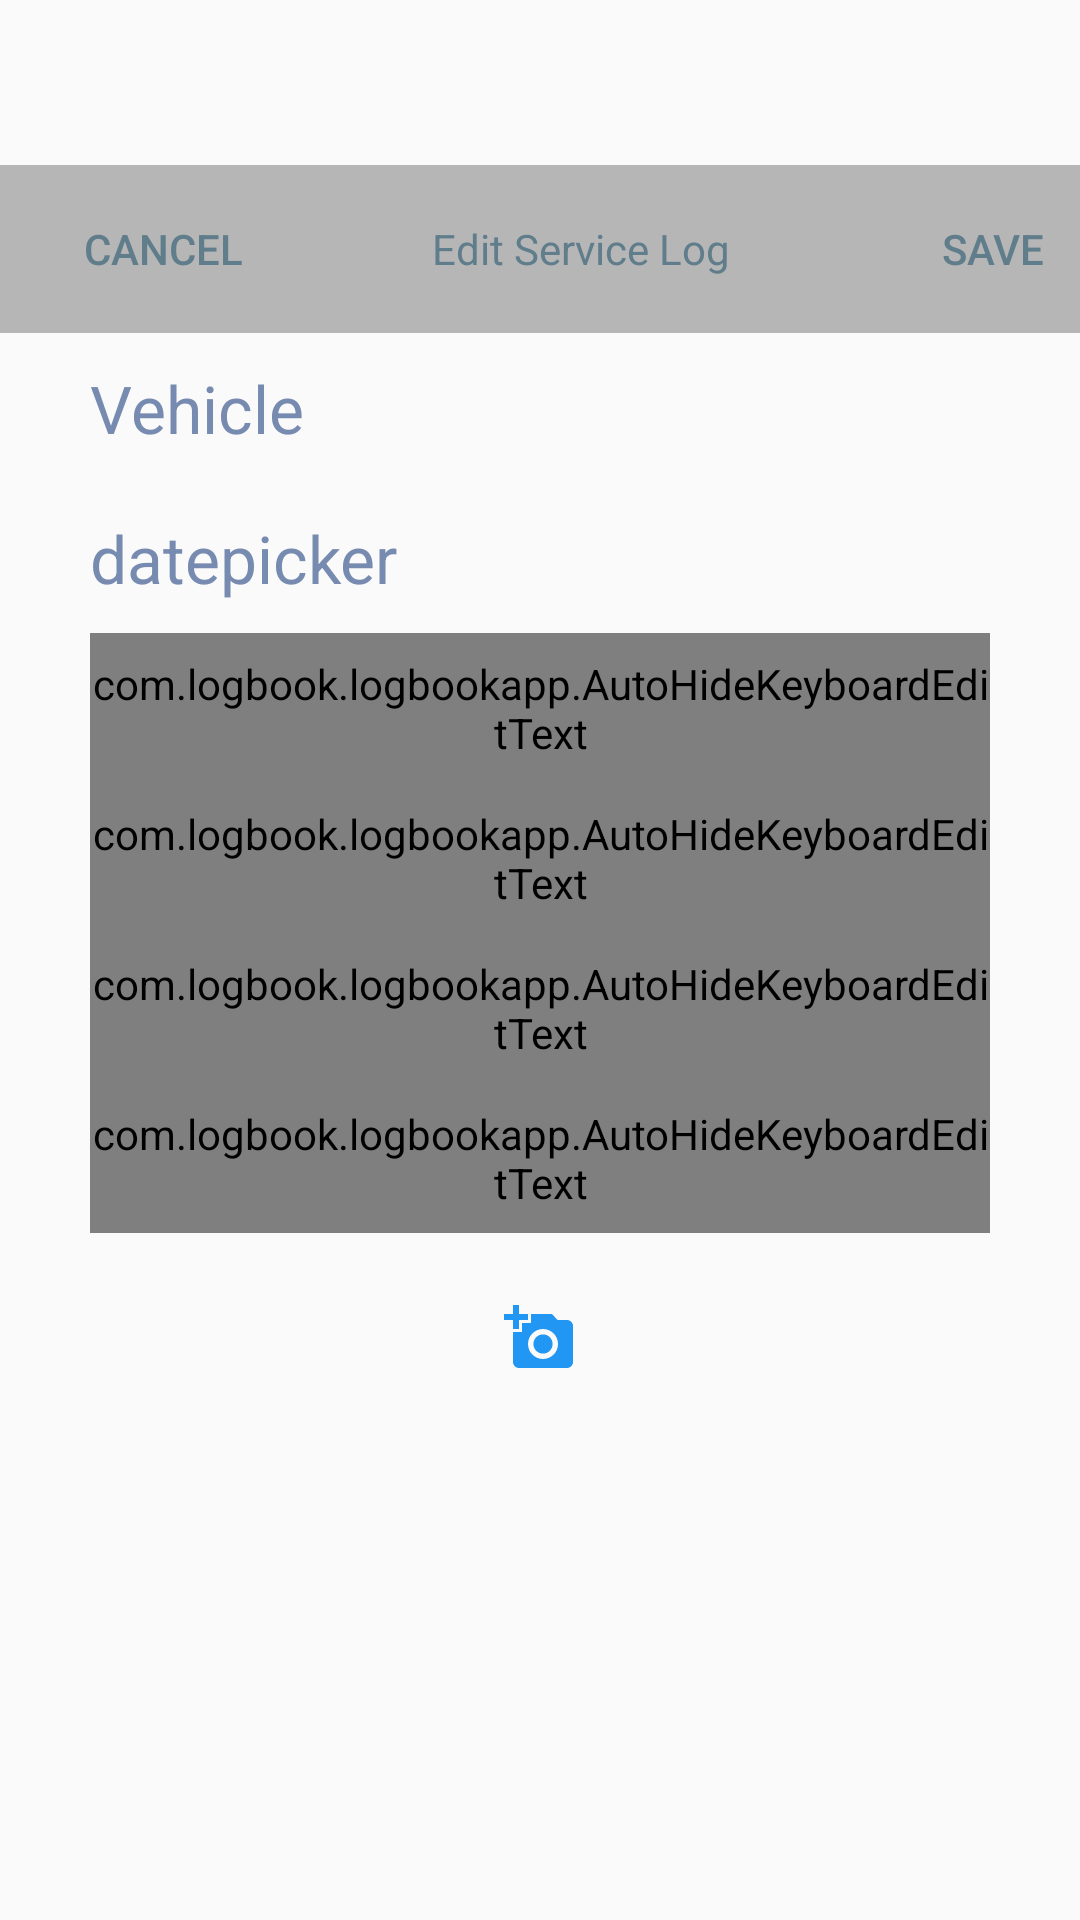

Icons on this 1080 × 1920 Android screen, each with the point to tap as (x=x, y=y):
camera: (x=538, y=1336)
